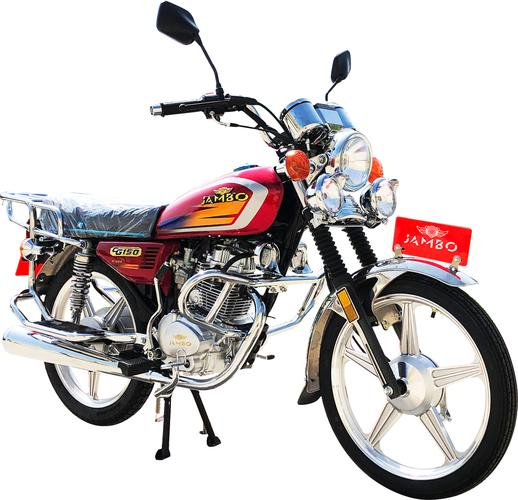摩托车: (4, 45, 518, 500)
